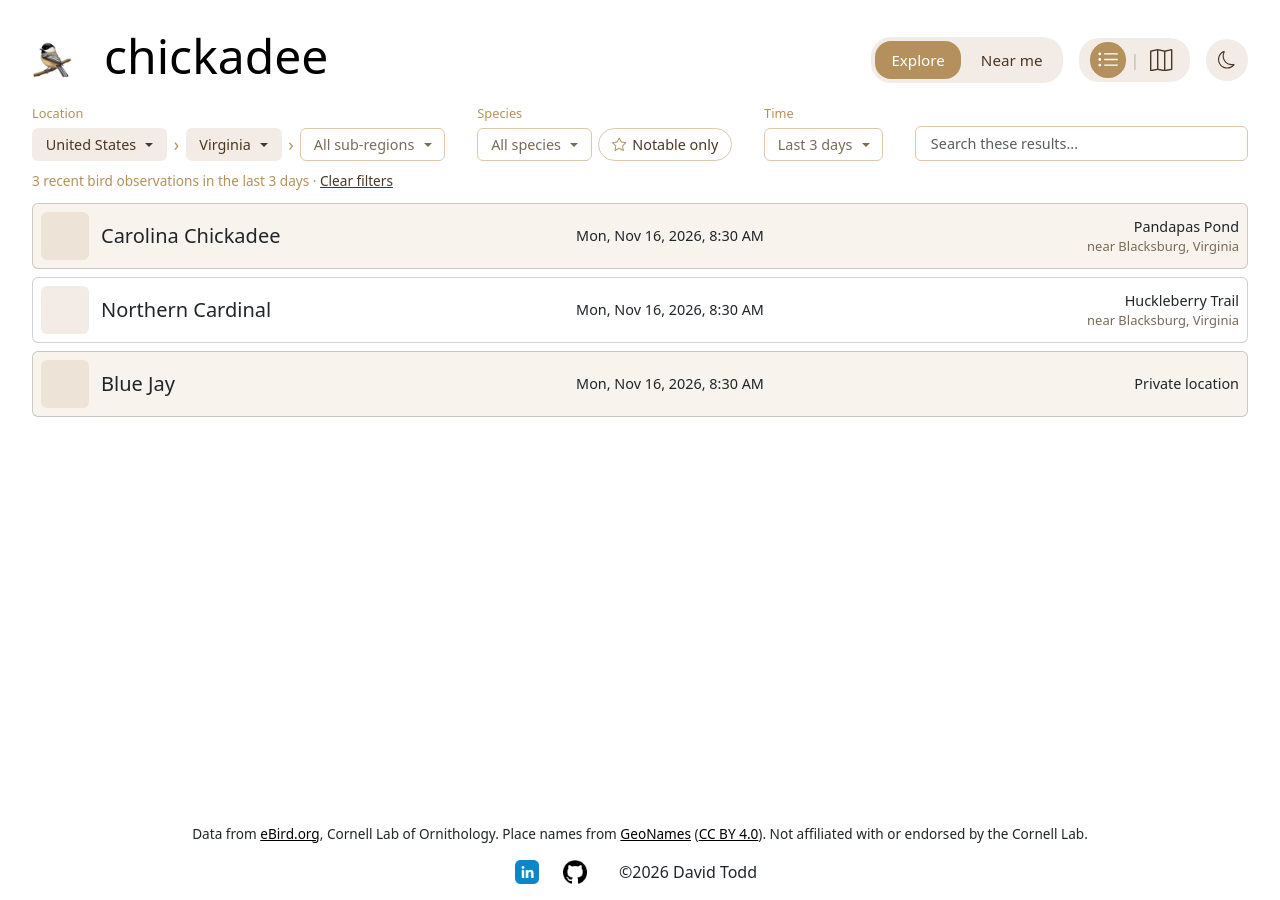
Scenario: Explore page › limits the species dropdown to species seen recently, with a switch for every species ever recorded
Expected: the text "Blue Jay" is shown, [101, 370, 175, 397]
Click the button "All species" at [535, 145], box [477, 128, 592, 161]
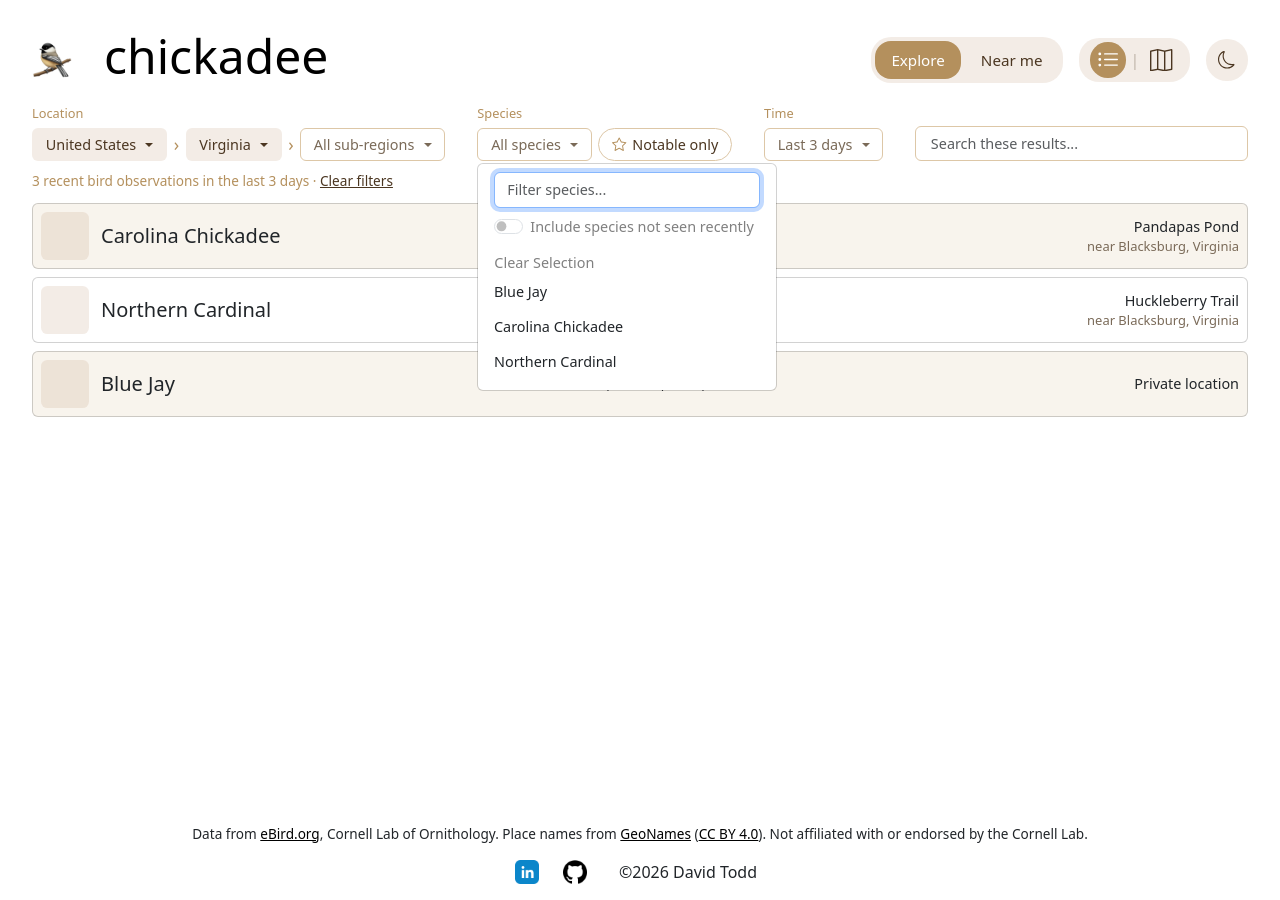
Expected: the button "Redhead" is not shown
Expected: the button "Blue Jay" is shown, [494, 282, 548, 301]
Click the checkbox labelled "Include species not seen recently" at [509, 226], box [494, 219, 523, 234]
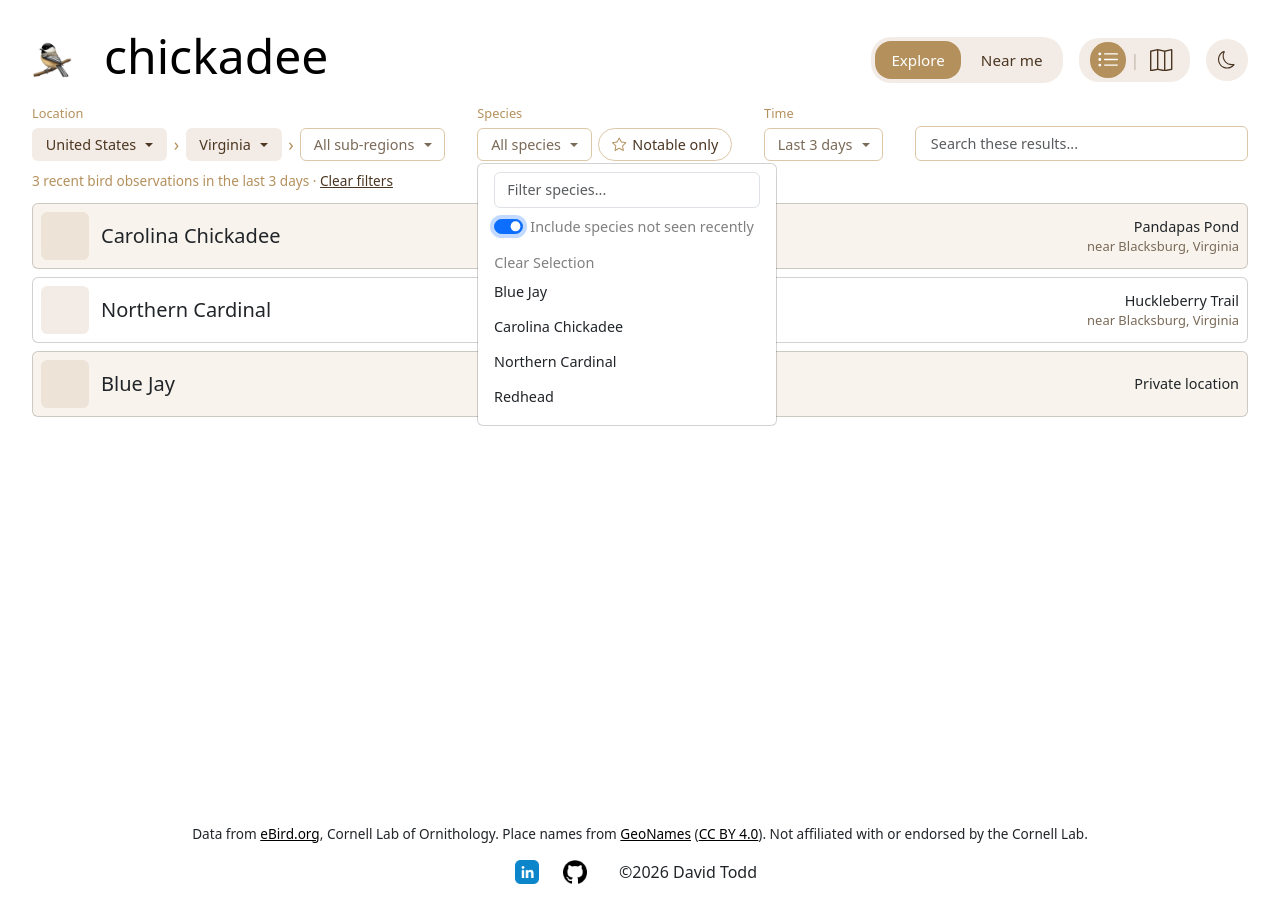
Expected: the button "Redhead" is shown, [494, 387, 554, 406]
Type "xyz" into the field with placeholder "Filter species..." at [627, 190], box [494, 172, 760, 208]
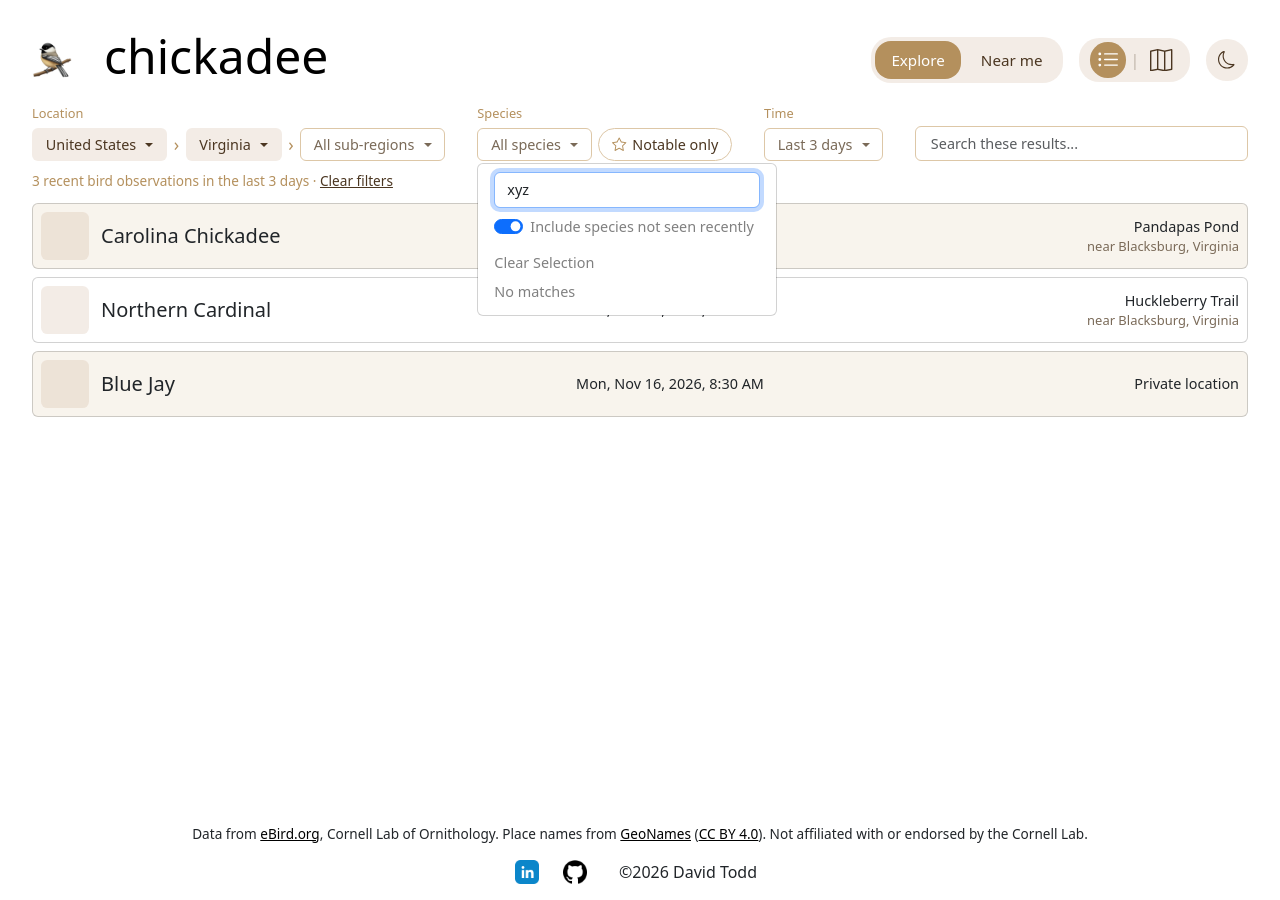
Expected: the text "No matches" is shown, [494, 282, 575, 301]
